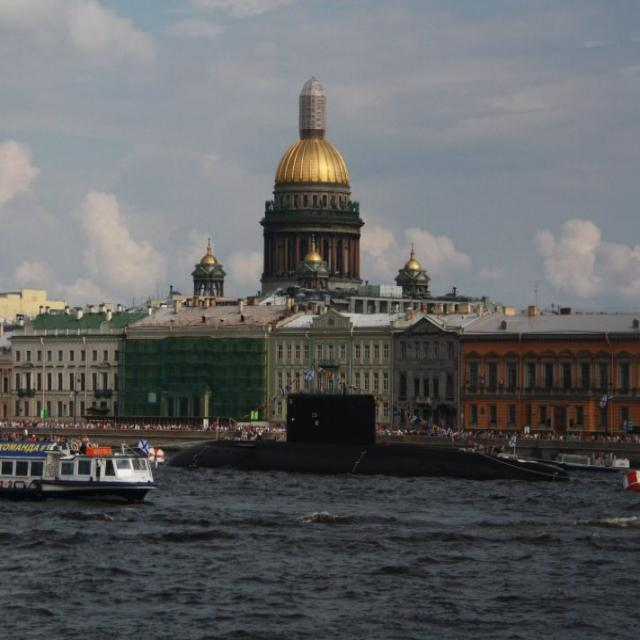submarine: (154, 392, 578, 485)
